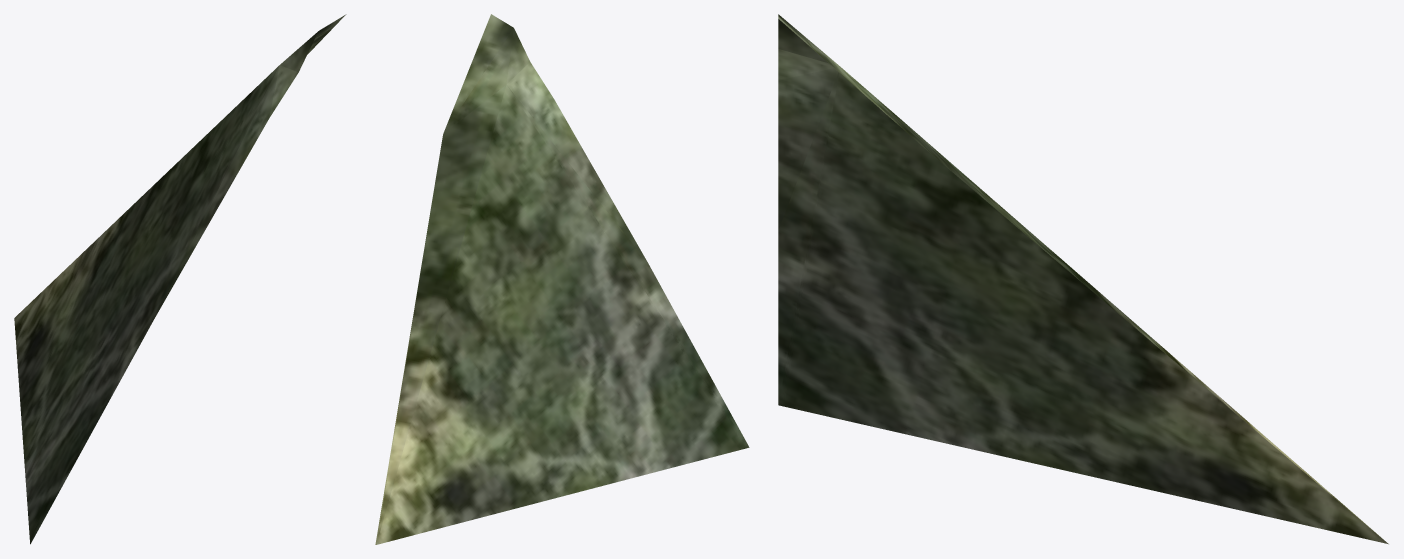
The picture shows the model from 3 angles, left to right: view 1: azimuth 30°, elevation 25°; view 2: azimuth 150°, elevation 25°; view 3: azimuth 270°, elevation 25°; orthographic projection. The views are drawn at different scales.
Size of the model in its own units: 1.5 by 2.05 by 1.94.
Materials: 1 (1 with a texture image).
